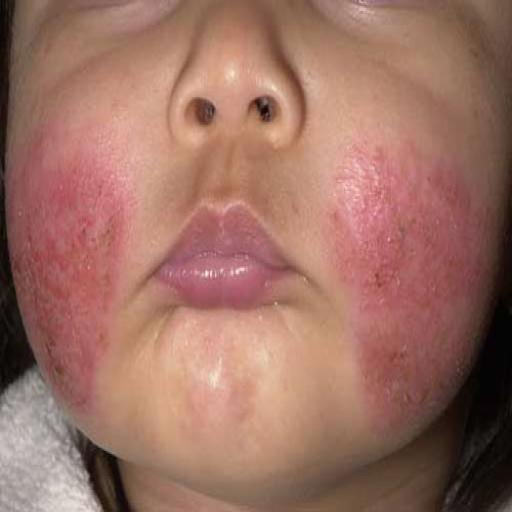Skin_Lesion: (384, 376, 430, 419), (43, 332, 70, 385), (386, 204, 412, 256), (92, 209, 114, 257), (381, 336, 413, 367), (72, 203, 86, 270), (358, 151, 382, 189), (327, 202, 345, 248), (8, 248, 27, 285), (368, 264, 388, 298), (90, 316, 110, 350), (361, 352, 379, 388), (49, 283, 73, 310), (31, 240, 60, 260), (356, 200, 372, 231), (448, 181, 462, 216), (424, 164, 438, 190), (97, 266, 115, 286)
